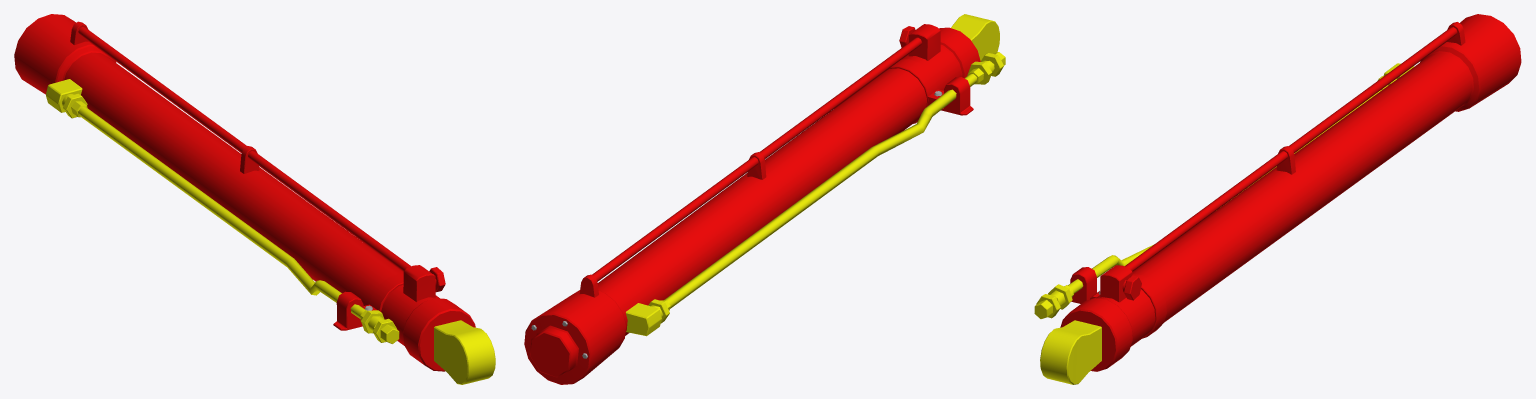
The model's file is ExcavatorMachine_HydraulicCylinder02_01a_snaps005.fbx.
The picture shows the model from 3 angles, left to right: view 1: azimuth 30°, elevation 25°; view 2: azimuth 150°, elevation 25°; view 3: azimuth 330°, elevation 25°; orthographic projection.
Parts seen in each view (by area): view 1: ExcavatorMachine_HydraulicCylinder02_01a_snaps005; view 2: ExcavatorMachine_HydraulicCylinder02_01a_snaps005; view 3: ExcavatorMachine_HydraulicCylinder02_01a_snaps005.
Part boxes in pixels (x1,y1,x2,y2): ExcavatorMachine_HydraulicCylinder02_01a_snaps005: [14, 14, 495, 384]; ExcavatorMachine_HydraulicCylinder02_01a_snaps005: [524, 14, 1005, 384]; ExcavatorMachine_HydraulicCylinder02_01a_snaps005: [1034, 14, 1521, 384].
Size of the model in its own units: 32.52 by 27.74 by 254.
